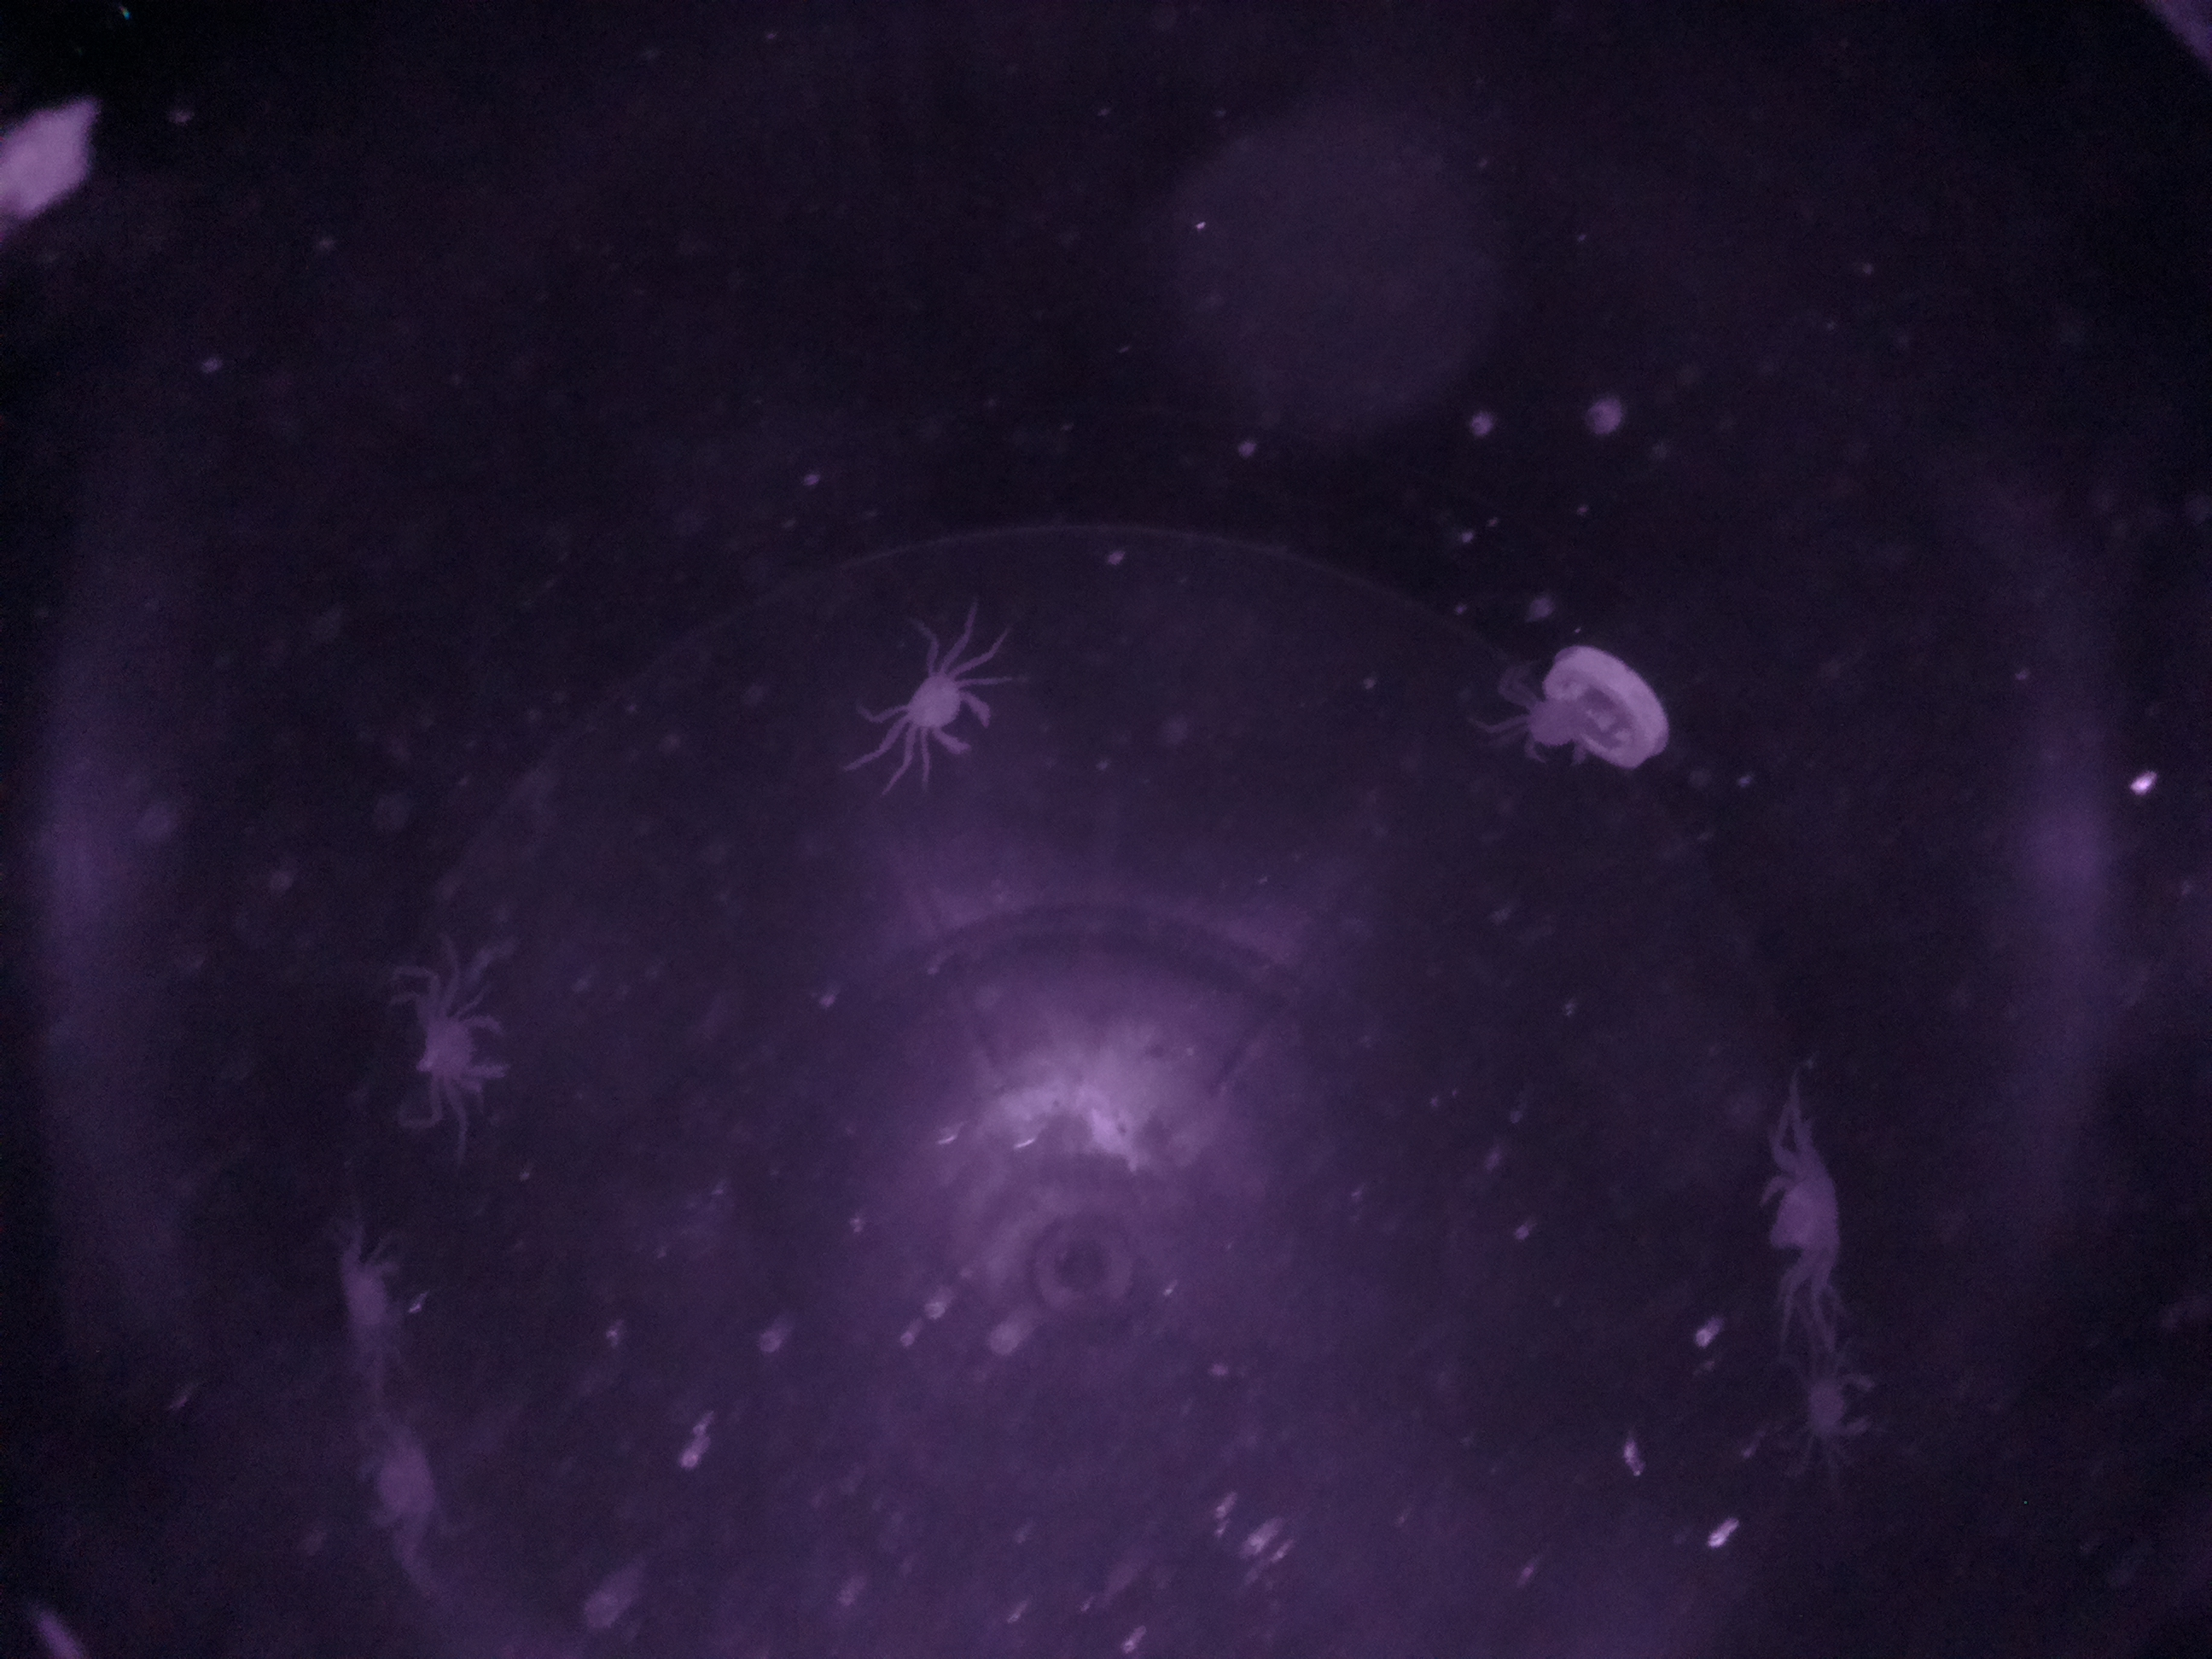Crab: (1740, 1148, 1879, 1277), (373, 990, 538, 1094), (881, 645, 998, 767)
